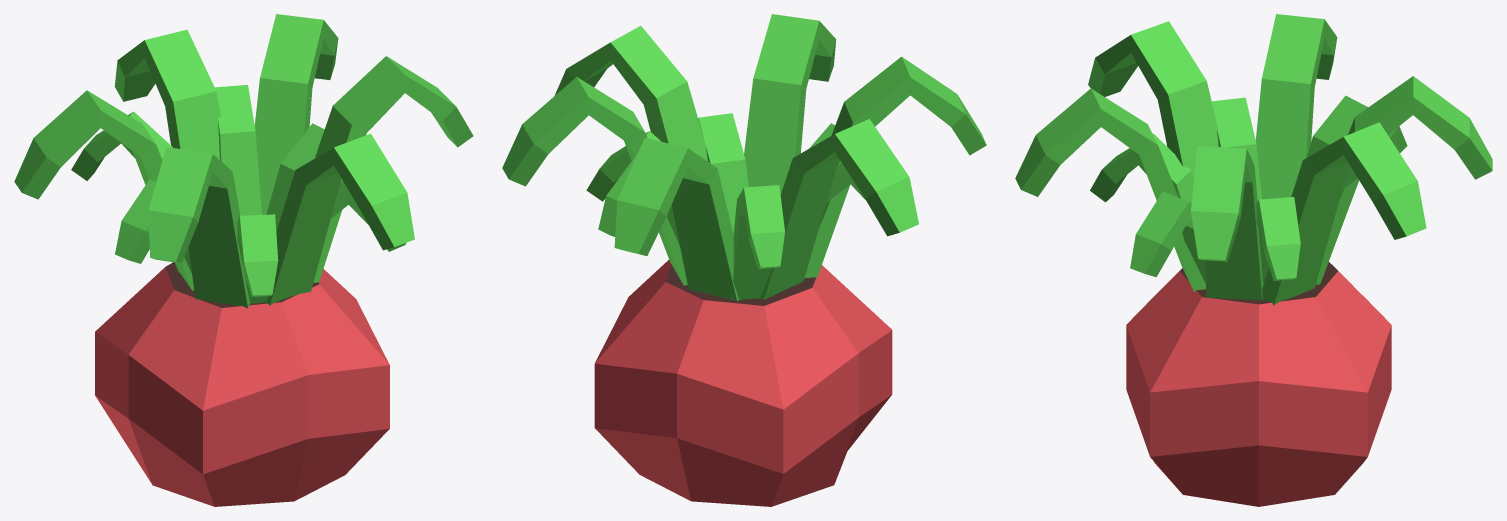
File: plant2.fbx
The picture shows the model from 3 angles, left to right: view 1: azimuth 30°, elevation 25°; view 2: azimuth 150°, elevation 25°; view 3: azimuth 270°, elevation 25°; orthographic projection.
Visible parts, largest first — view 1: Plant2; view 2: Plant2; view 3: Plant2.
Part boxes in pixels (<box>): Plant2: <box>14,14,473,506</box>; Plant2: <box>502,14,986,506</box>; Plant2: <box>1015,14,1492,506</box>.
Size of the model in its own units: 375 by 342 by 383.
